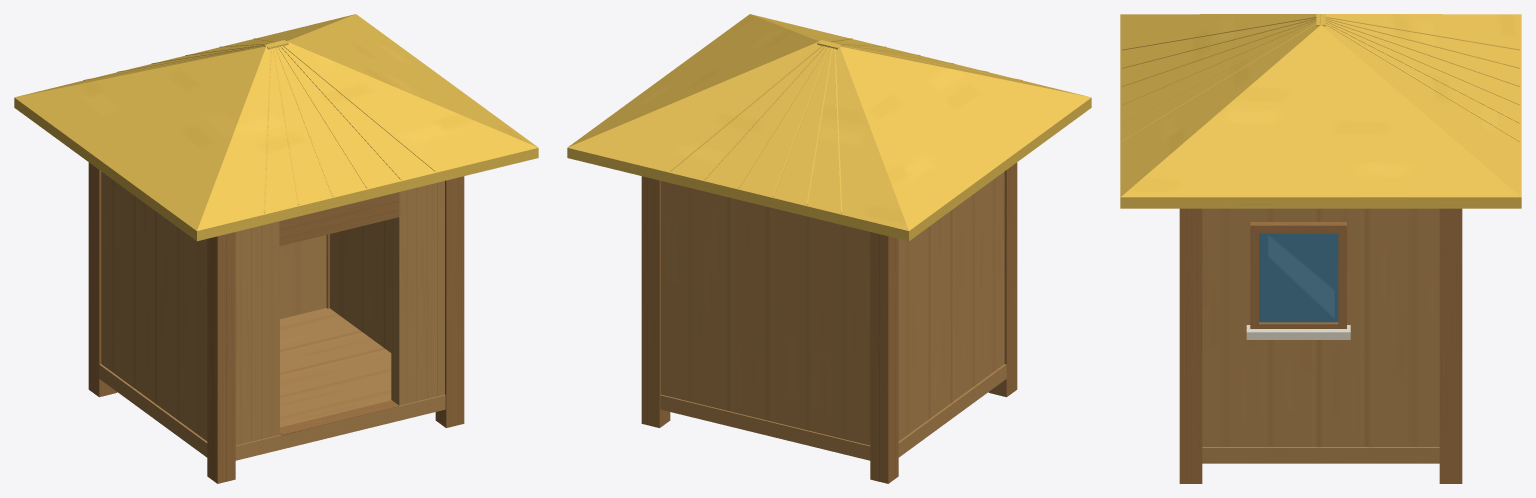
Rendered from hut_brown.glb.
3 renders of one model, left to right at view 1: azimuth 30°, elevation 25°; view 2: azimuth 150°, elevation 25°; view 3: azimuth 270°, elevation 25°, orthographic. The views are drawn at different scales.
Parts seen in each view (by area): view 1: hut_brown; view 2: hut_brown; view 3: hut_brown.
Boxes of the visible parts, box(x1,y1,x2,y2) form: hut_brown: box(14, 14, 538, 483); hut_brown: box(567, 14, 1091, 483); hut_brown: box(1120, 14, 1521, 483).
Bounding box in the file's own units: 3.5 × 3.55 × 3.24.
Materials: 5 (5 with a texture image).
